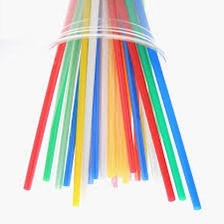drinking_straw: (133, 0, 206, 213), (19, 0, 73, 195), (68, 0, 91, 210)
glass: (42, 0, 173, 74)
